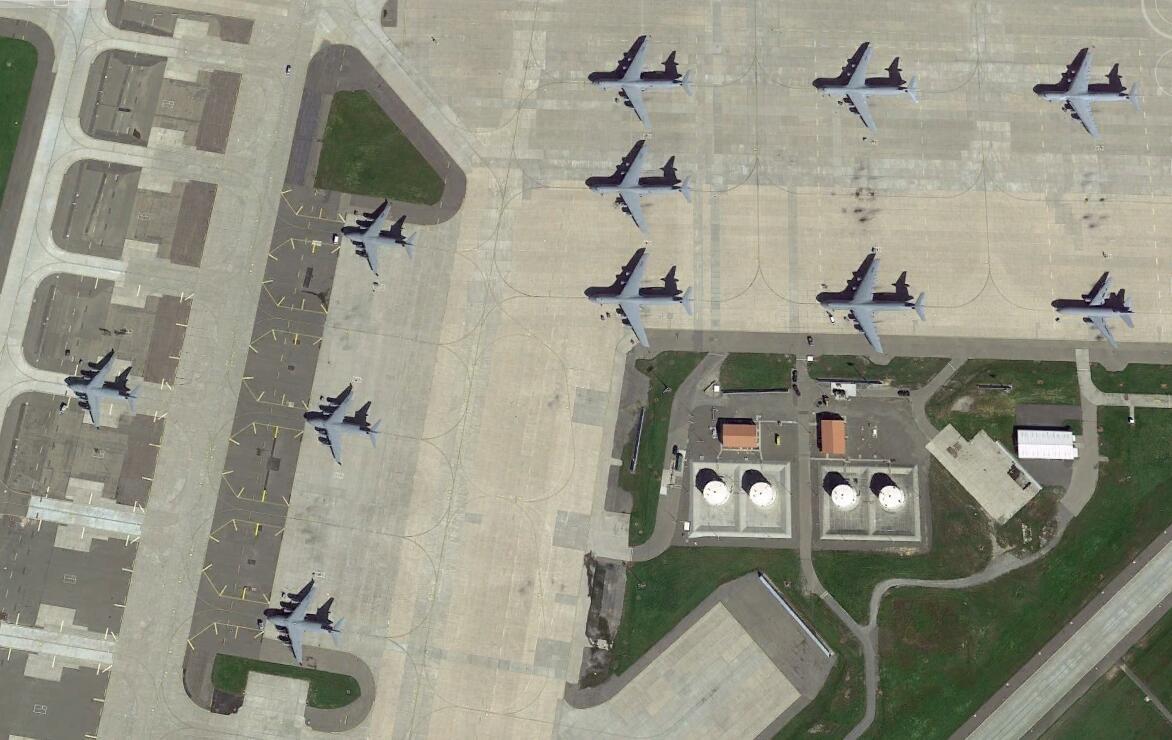A18: (1056, 274, 1137, 351)
A3: (262, 581, 347, 667), (305, 387, 382, 465), (64, 351, 141, 429), (344, 202, 419, 275)
A4: (817, 256, 927, 356), (587, 252, 692, 349), (585, 140, 694, 232), (589, 35, 695, 125), (812, 45, 924, 130), (1040, 45, 1140, 136)
